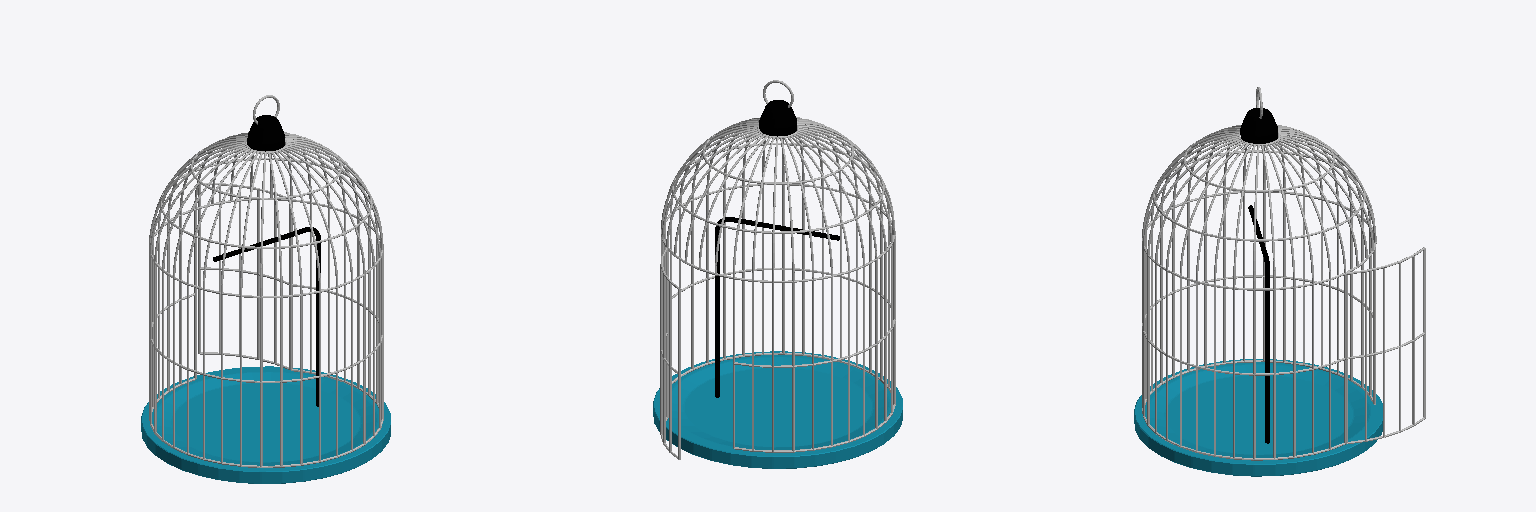
File: birdcagev3.obj
3 views of the same model, side by side, from view 1: azimuth 30°, elevation 25°; view 2: azimuth 150°, elevation 25°; view 3: azimuth 270°, elevation 25° (orthographic).
Visible parts, largest first — view 1: Capsule001, Cylinder001, Object001, Cylinder002, Rectangle001; view 2: Capsule001, Cylinder001, Object001, Rectangle001, Cylinder002; view 3: Capsule001, Cylinder001, Object001, Rectangle001, Cylinder002.
Boxes of the visible parts, box(x1,y1,x2,y2) form: Capsule001: box(149, 132, 383, 467); Cylinder001: box(141, 366, 390, 483); Object001: box(198, 183, 289, 369); Cylinder002: box(247, 115, 284, 151); Rectangle001: box(213, 227, 320, 406); Capsule001: box(661, 117, 895, 452); Cylinder001: box(653, 351, 902, 468); Object001: box(660, 247, 680, 459); Rectangle001: box(715, 217, 839, 397); Cylinder002: box(759, 100, 796, 136); Capsule001: box(1142, 125, 1376, 460); Cylinder001: box(1134, 359, 1382, 476); Object001: box(1346, 247, 1425, 443); Rectangle001: box(1248, 205, 1269, 443); Cylinder002: box(1240, 108, 1277, 143).
Bounding box in the file's own units: 17.98 × 26.64 × 20.95.